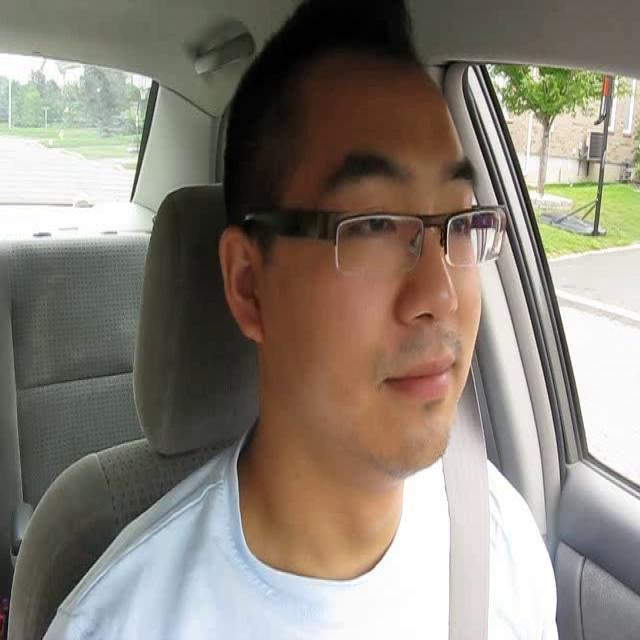close: (380, 352, 461, 408)
